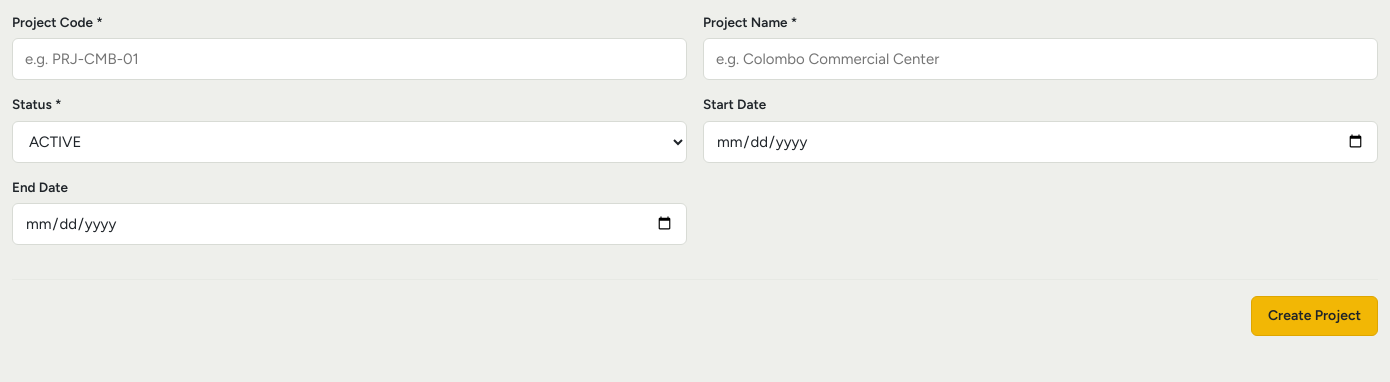
it: ProjectForm (AESCS-44) › rejects submission when required fields (code, name) are missing
Step 1. Click the button "Create Project" → [1314, 316], box x1=1251 y1=296 x2=1378 y2=336
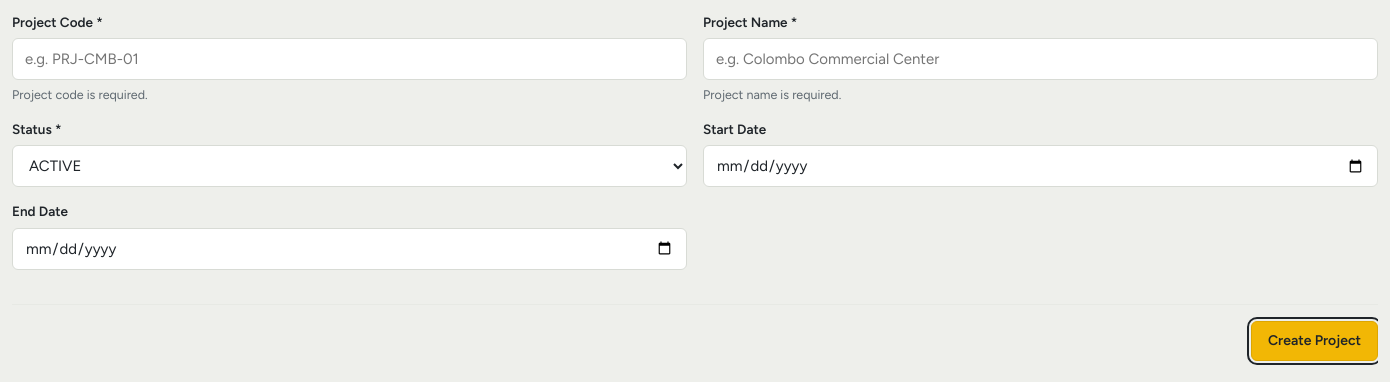
Expected: the text "Project code is required." is shown, x1=12 y1=87 x2=148 y2=102
Expected: the text "Project name is required." is shown, x1=703 y1=87 x2=841 y2=102
